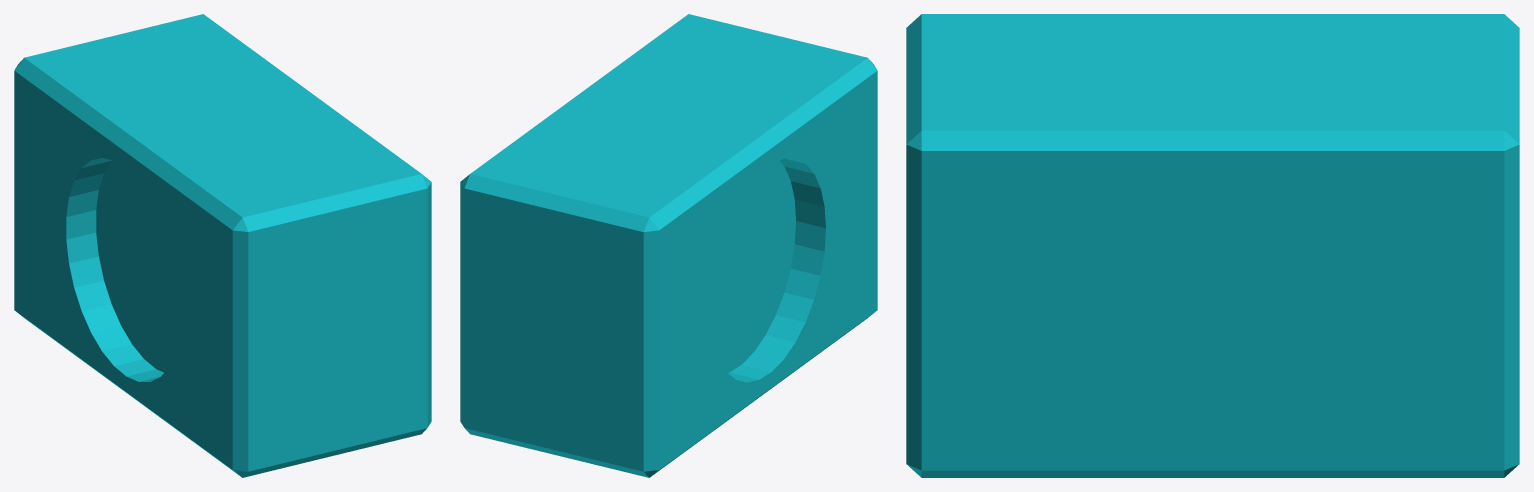
Rendered from gripper_link.dae.
The picture shows the model from 3 angles, left to right: view 1: azimuth 30°, elevation 25°; view 2: azimuth 150°, elevation 25°; view 3: azimuth 270°, elevation 25°; orthographic projection. The views are drawn at different scales.
Visible parts, largest first — view 1: gripper_link; view 2: gripper_link; view 3: gripper_link.
Part boxes in pixels (x1,y1,x2,y2): gripper_link: [14, 14, 431, 477]; gripper_link: [460, 14, 877, 477]; gripper_link: [906, 14, 1519, 477].
Bounding box in the file's own units: 0.02 × 0.04 × 0.025.
